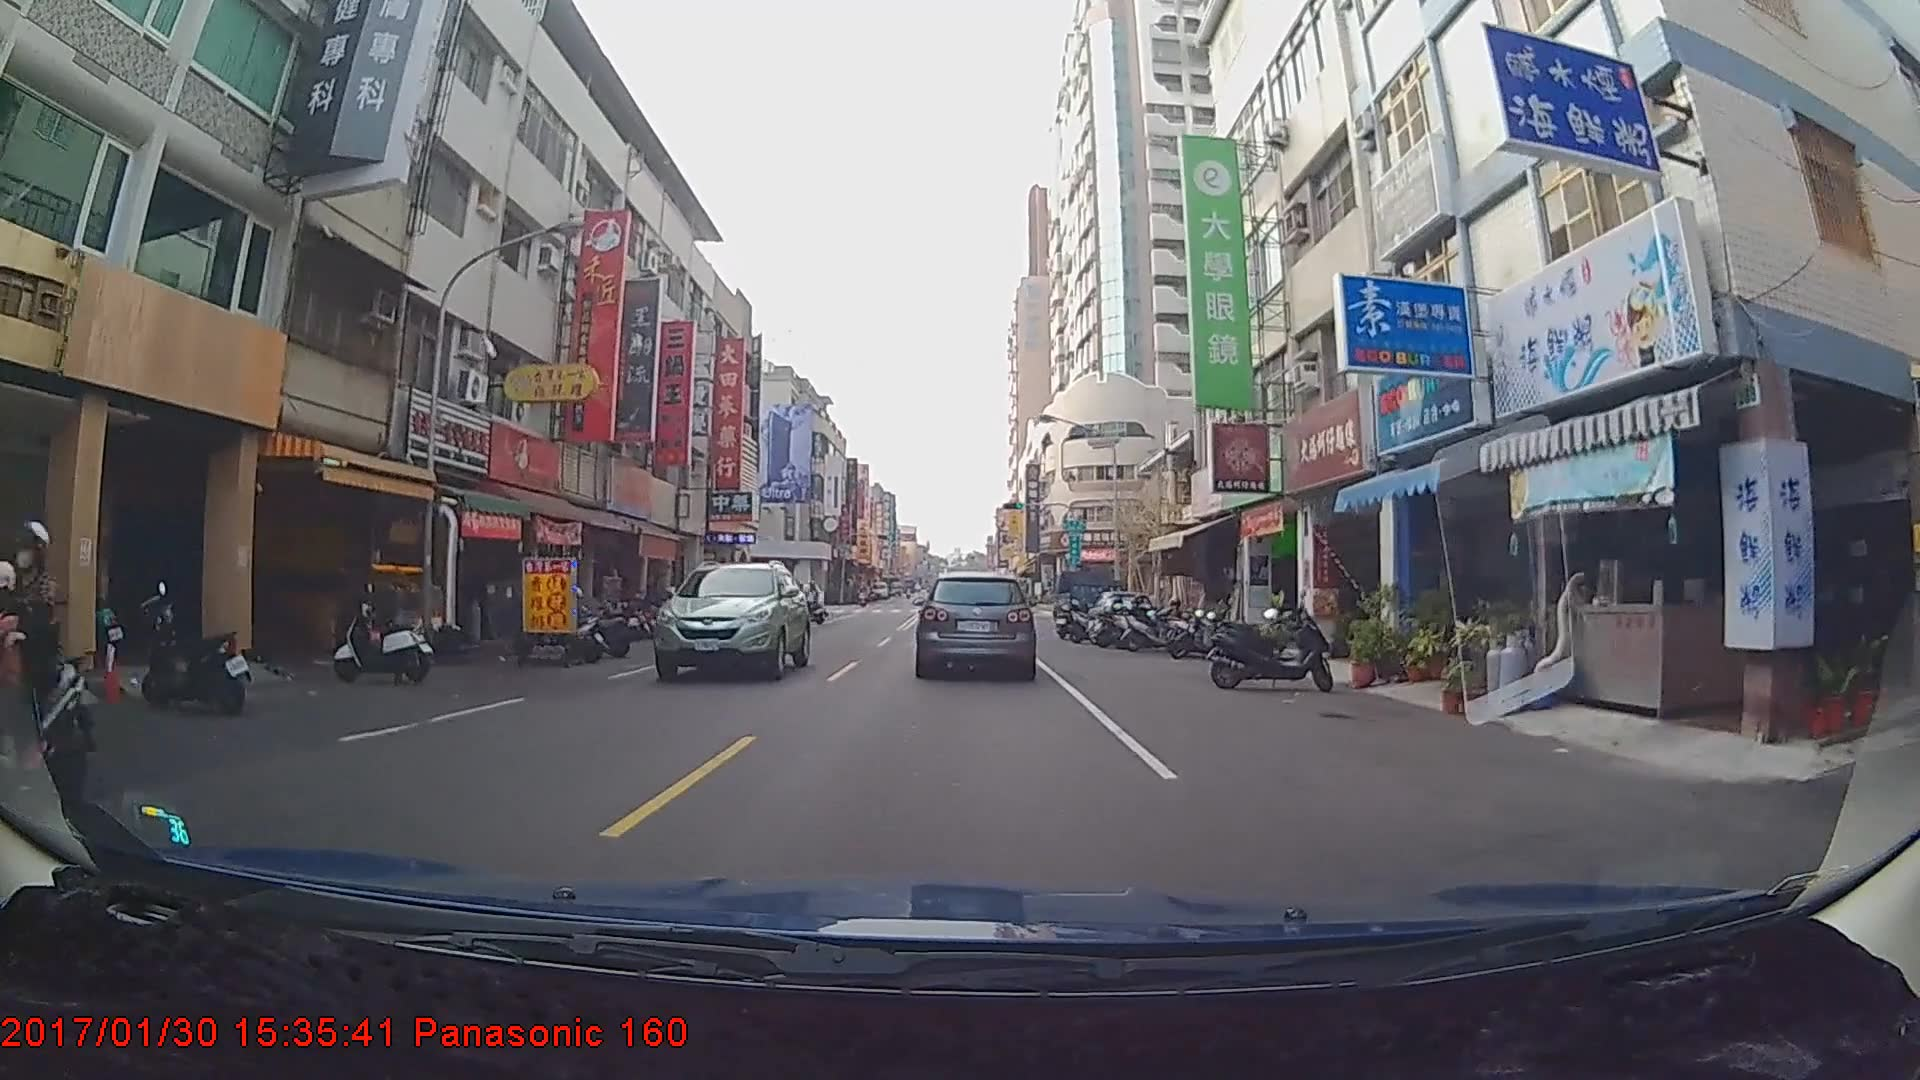vehicle: (650, 559, 808, 682), (918, 571, 1035, 678), (1055, 570, 1130, 634)
